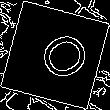O_SW: (22, 24, 88, 86)
